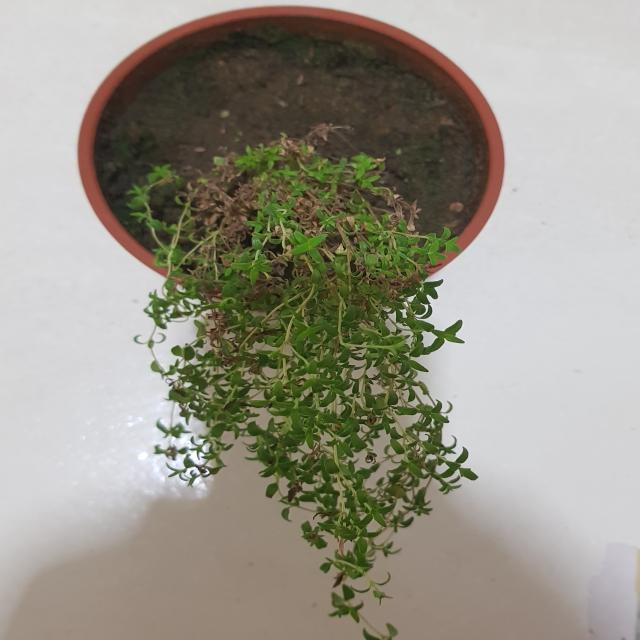Thyme: (95, 126, 537, 640)
